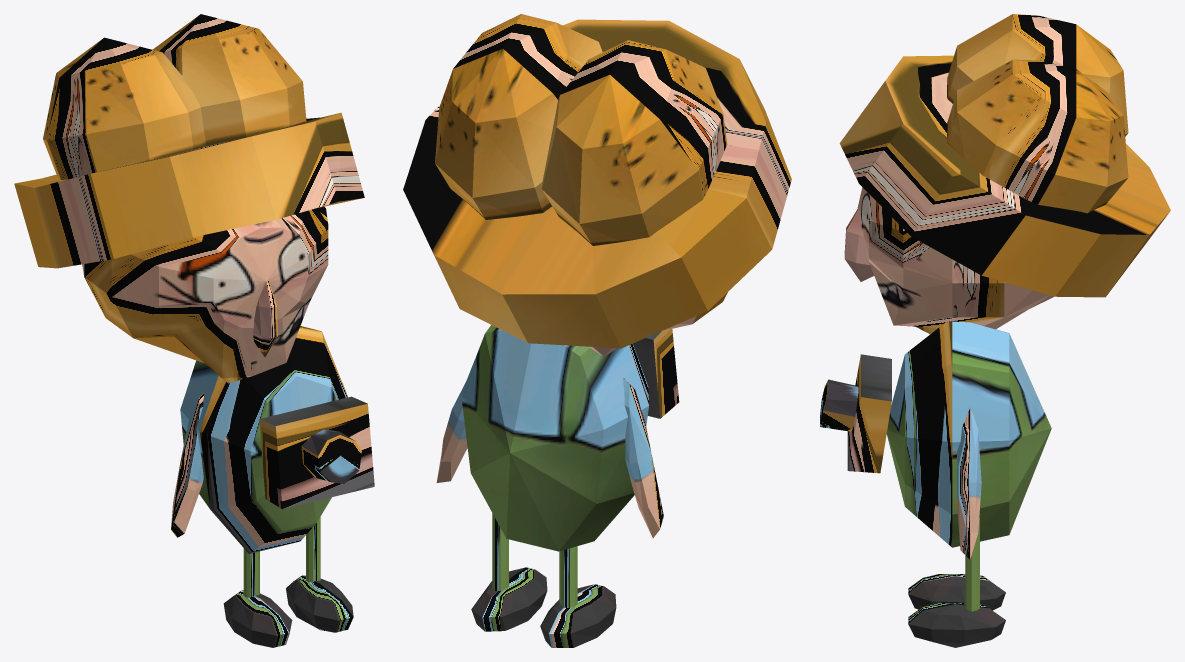
File: Dude1.glb
The picture shows the model from 3 angles, left to right: view 1: azimuth 30°, elevation 25°; view 2: azimuth 150°, elevation 25°; view 3: azimuth 270°, elevation 25°; orthographic projection. The views are drawn at different scales.
Parts seen in each view (by area): view 1: Dude1; view 2: Dude1; view 3: Dude1.
Boxes of the visible parts, bbox=[...] form: Dude1: bbox=[14, 14, 374, 647]; Dude1: bbox=[403, 14, 791, 647]; Dude1: bbox=[820, 14, 1170, 647].
Bounding box in the file's own units: 491 × 889 × 509.
1 material, 1 textured.
